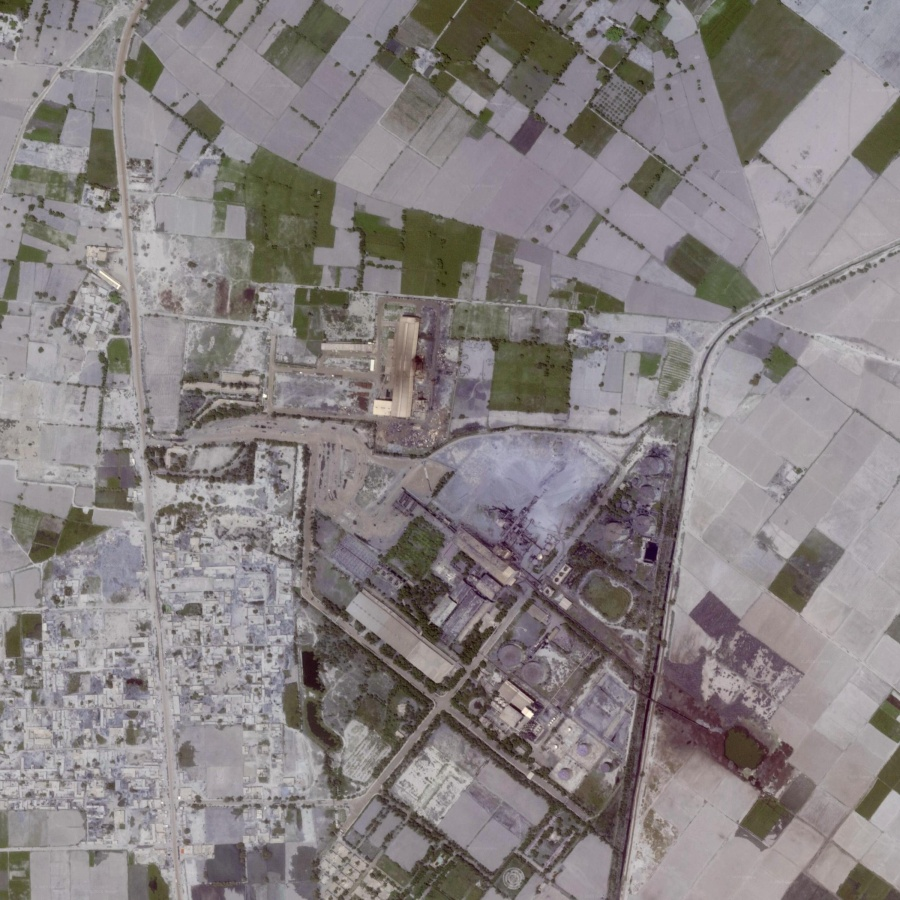PowerPlant: (444, 571, 634, 789)
